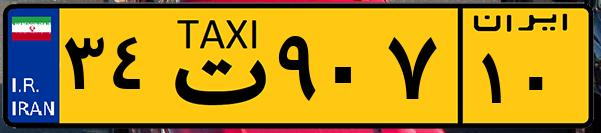0: (330, 28, 385, 110), (525, 38, 570, 115)
1: (475, 38, 525, 113)
3: (57, 26, 110, 100)
4: (110, 28, 158, 98)
7: (385, 28, 445, 110)
9: (270, 28, 330, 110)
ت: (158, 12, 270, 120)
